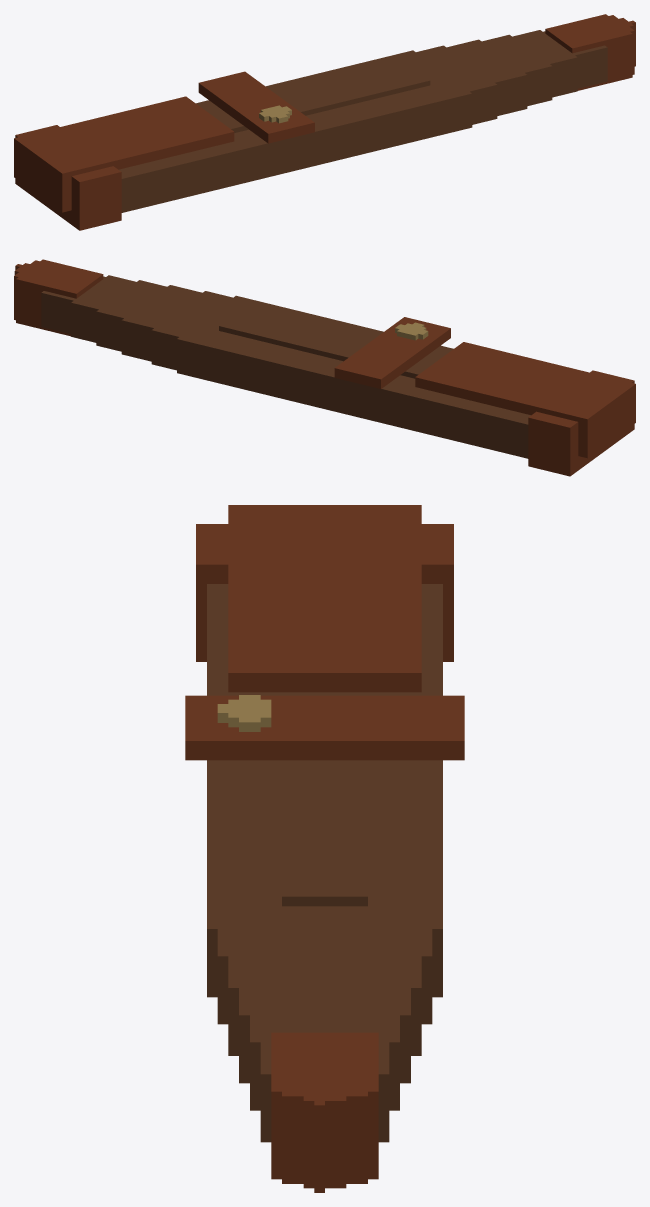
Rendered from sheath.glb.
3 views of the same model, one above another, from view 1: azimuth 30°, elevation 25°; view 2: azimuth 150°, elevation 25°; view 3: azimuth 270°, elevation 25° (orthographic). The views are drawn at different scales.
Parts seen in each view (by area): view 1: sheath:compound; view 2: sheath:compound; view 3: sheath:compound.
Boxes of the visible parts, x1,y1,x2,y2 form: sheath:compound: (14,14,635,230); sheath:compound: (14,259,635,476); sheath:compound: (185,505,464,1192).
Size of the model in its own units: 0.256 by 0.024 by 0.052.
